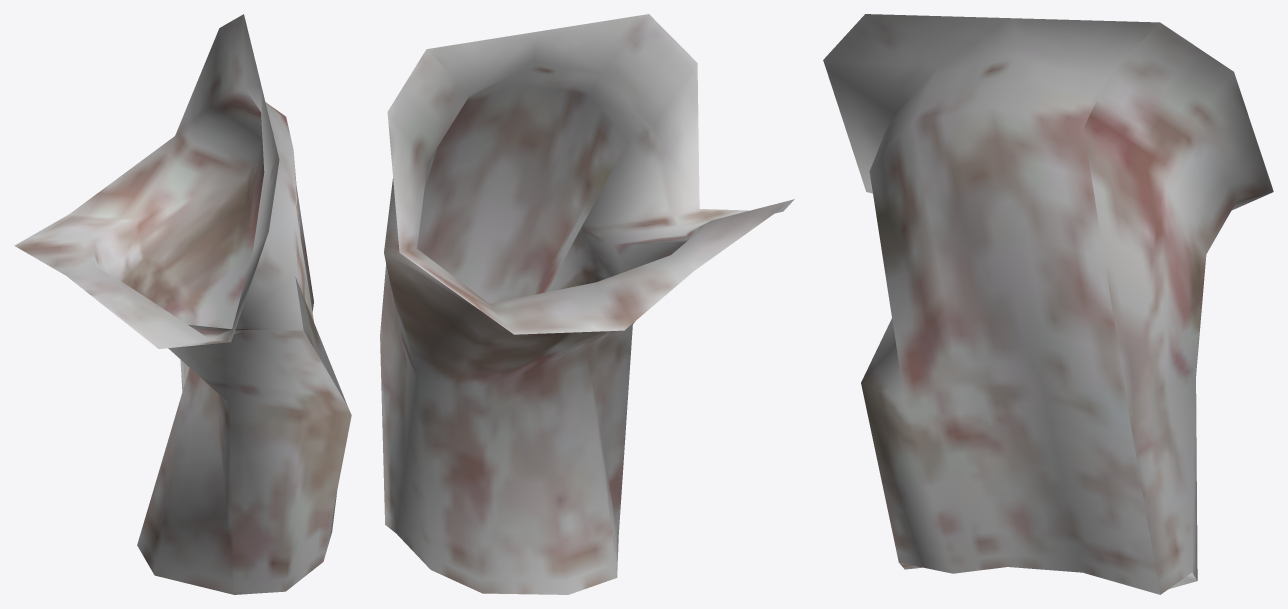
Rendered from SM_TrashScrapCup_01_E.fbx.
The picture shows the model from 3 angles, left to right: view 1: azimuth 30°, elevation 25°; view 2: azimuth 150°, elevation 25°; view 3: azimuth 270°, elevation 25°; orthographic projection. The views are drawn at different scales.
Parts seen in each view (by area): view 1: SM_TrashScrapCup_01_E; view 2: SM_TrashScrapCup_01_E; view 3: SM_TrashScrapCup_01_E.
Boxes of the visible parts, x1,y1,x2,y2 form: SM_TrashScrapCup_01_E: (14, 14, 351, 594); SM_TrashScrapCup_01_E: (380, 14, 794, 594); SM_TrashScrapCup_01_E: (823, 14, 1273, 594).
Size of the model in its own units: 6.73 by 7.14 by 10.5.
Materials: 1 (1 with a texture image).
